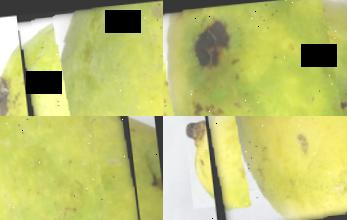PartiallyRipe: (163, 0, 347, 116), (17, 0, 163, 116), (0, 116, 146, 220)
Ripe: (201, 116, 347, 220)
